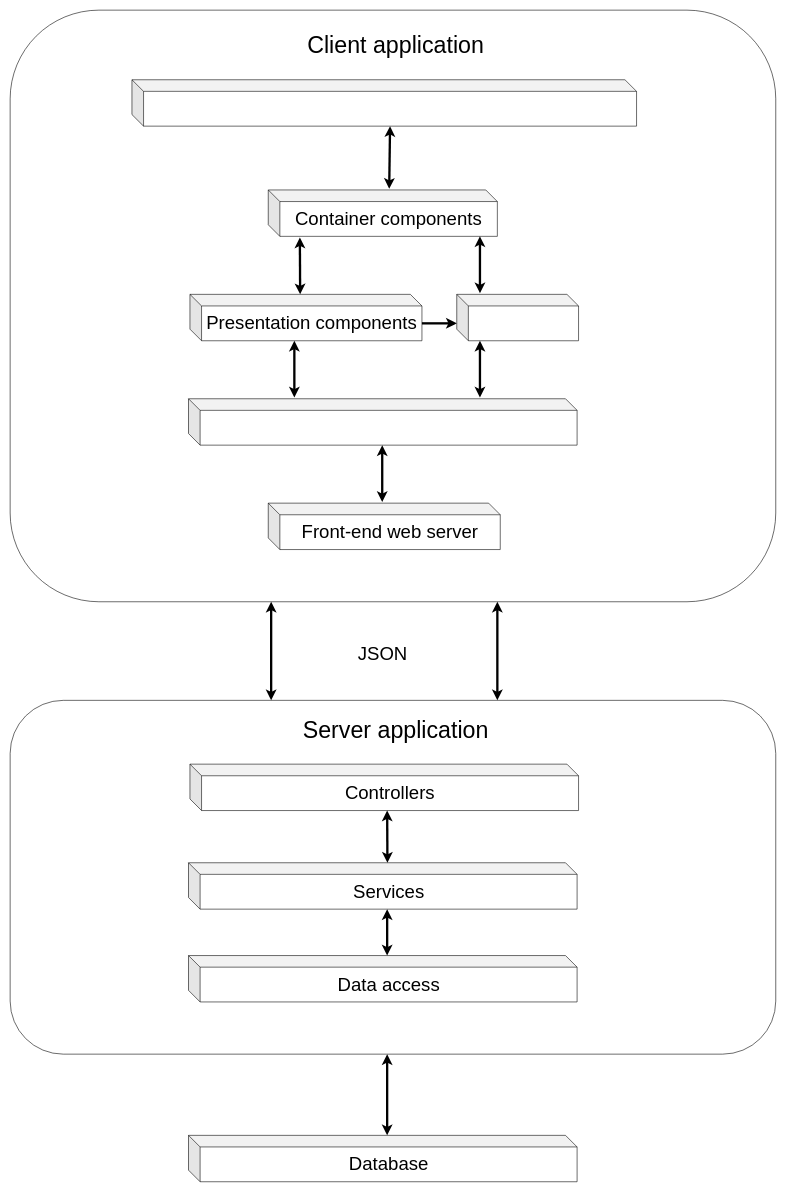
This 786x1192 diagram has some shape labels left out. The shapes that lost their labels are listed below. From the top down, each one's centre as x and y in pixels, then its label:
point (384, 102): Routing middleware
point (517, 317): Input forms
point (382, 421): UI components
